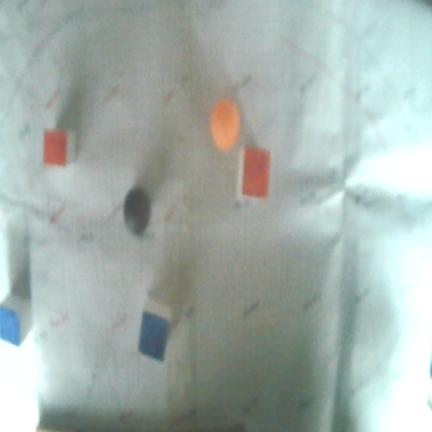circle_blue: (123, 187, 150, 235)
circle_orange: (210, 98, 240, 153)
rectangle_blue: (0, 307, 20, 347)
square_blue: (138, 311, 169, 361), (44, 129, 67, 167)
square_orange: (241, 145, 270, 198)
